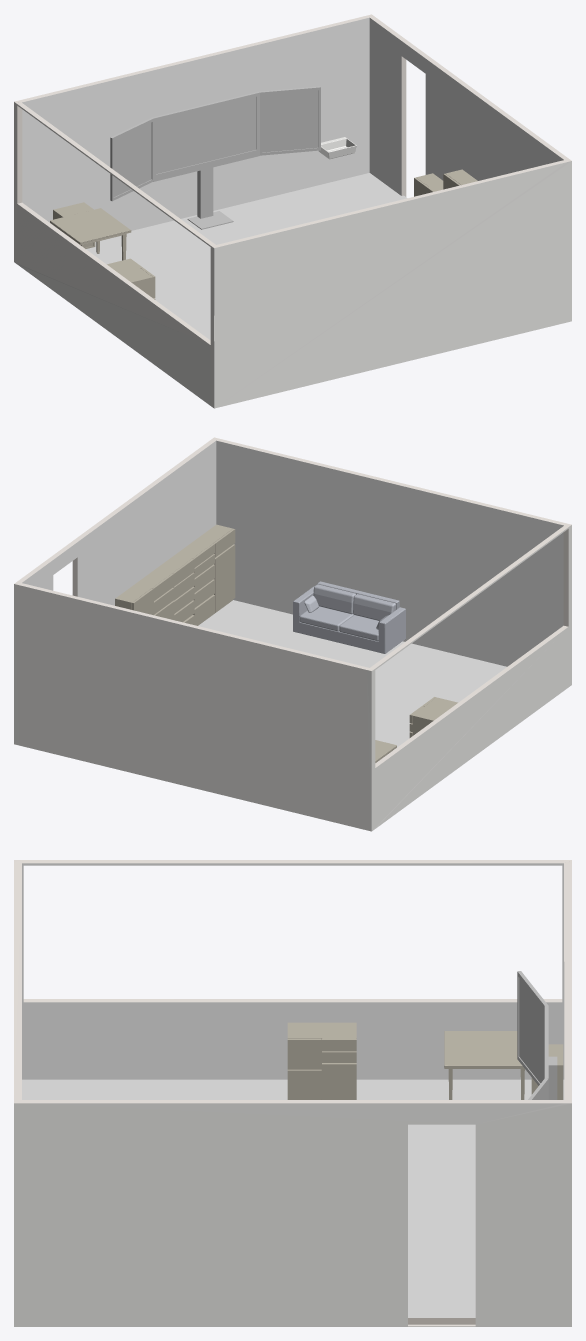
Rendered from 50qm_möbliertglb.glb.
3 renders of one model, top to bottom at view 1: azimuth 30°, elevation 25°; view 2: azimuth 150°, elevation 25°; view 3: azimuth 270°, elevation 25°, orthographic. The views are drawn at different scales.
Parts seen in each view (by area): view 1: Raummodell_farbe.002, Raummodell_farbe.005, Raummodell_farbe.001, Raummodell_farbe.008, Raummodell_farbe.004, Raummodell_farbe.003; view 2: Raummodell_farbe.002, Raummodell_farbe.005, Raummodell_farbe.008, Raummodell_farbe.003, Raummodell_farbe.004, Raummodell_farbe.007; view 3: Raummodell_farbe.002, Raummodell_farbe.005, Raummodell_farbe.008, Raummodell_farbe.004, Raummodell_farbe.003, Raummodell_farbe.001.
Boxes of the visible parts, left/top/right/bottom form: Raummodell_farbe.002: left=14, top=102, right=571, bottom=408; Raummodell_farbe.005: left=22, top=17, right=563, bottom=230; Raummodell_farbe.001: left=110, top=86, right=320, bottom=229; Raummodell_farbe.008: left=86, top=173, right=407, bottom=340; Raummodell_farbe.004: left=14, top=14, right=571, bottom=344; Raummodell_farbe.003: left=50, top=169, right=477, bottom=299; Raummodell_farbe.002: left=14, top=525, right=571, bottom=831; Raummodell_farbe.005: left=22, top=440, right=563, bottom=666; Raummodell_farbe.008: left=198, top=600, right=506, bottom=747; Raummodell_farbe.003: left=115, top=524, right=457, bottom=762; Raummodell_farbe.004: left=14, top=437, right=571, bottom=767; Raummodell_farbe.007: left=293, top=581, right=405, bottom=653; Raummodell_farbe.002: left=14, top=1103, right=571, bottom=1326; Raummodell_farbe.005: left=22, top=863, right=564, bottom=1079; Raummodell_farbe.008: left=22, top=1079, right=564, bottom=1317; Raummodell_farbe.004: left=14, top=860, right=571, bottom=1326; Raummodell_farbe.003: left=287, top=1022, right=563, bottom=1099; Raummodell_farbe.001: left=517, top=971, right=557, bottom=1099.
Bounding box in the file's own units: 14.77 × 6.33 × 14.31.
